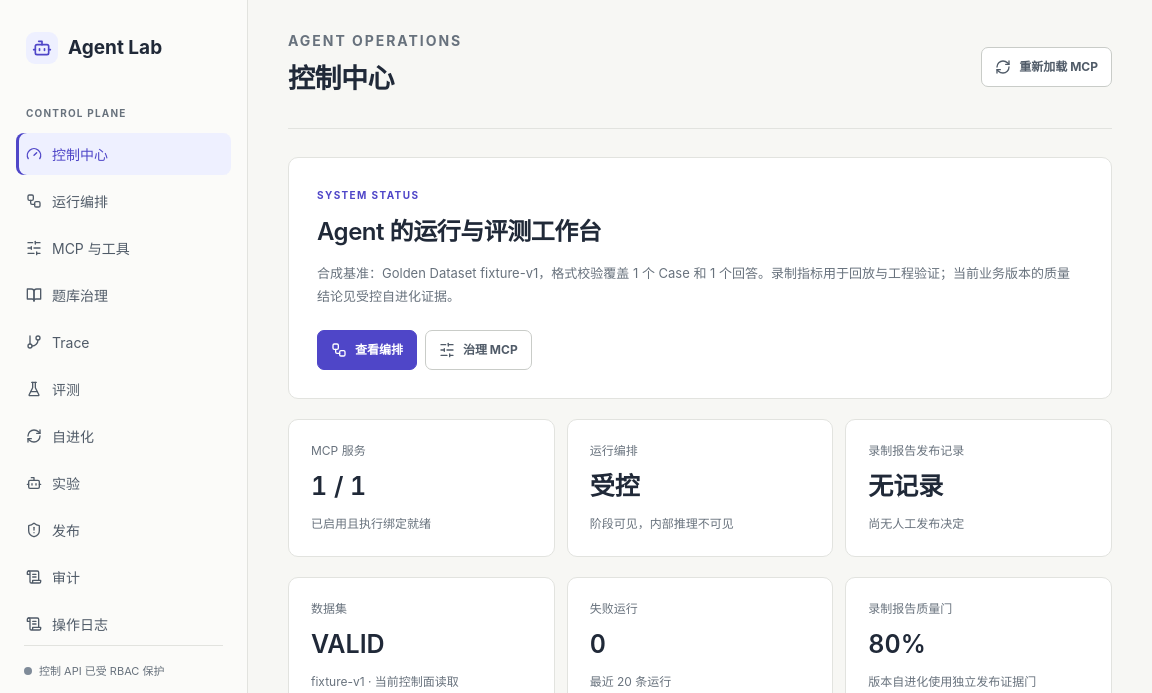
Scenario: MCP workspace process scope and state recovery › rereads actual disabled state after an unconfirmed mutation and permits an explicit GET recovery
The width and height of the screenshot is (1152, 693).
Click the button "治理 MCP": (478, 350) [425,330,532,370]
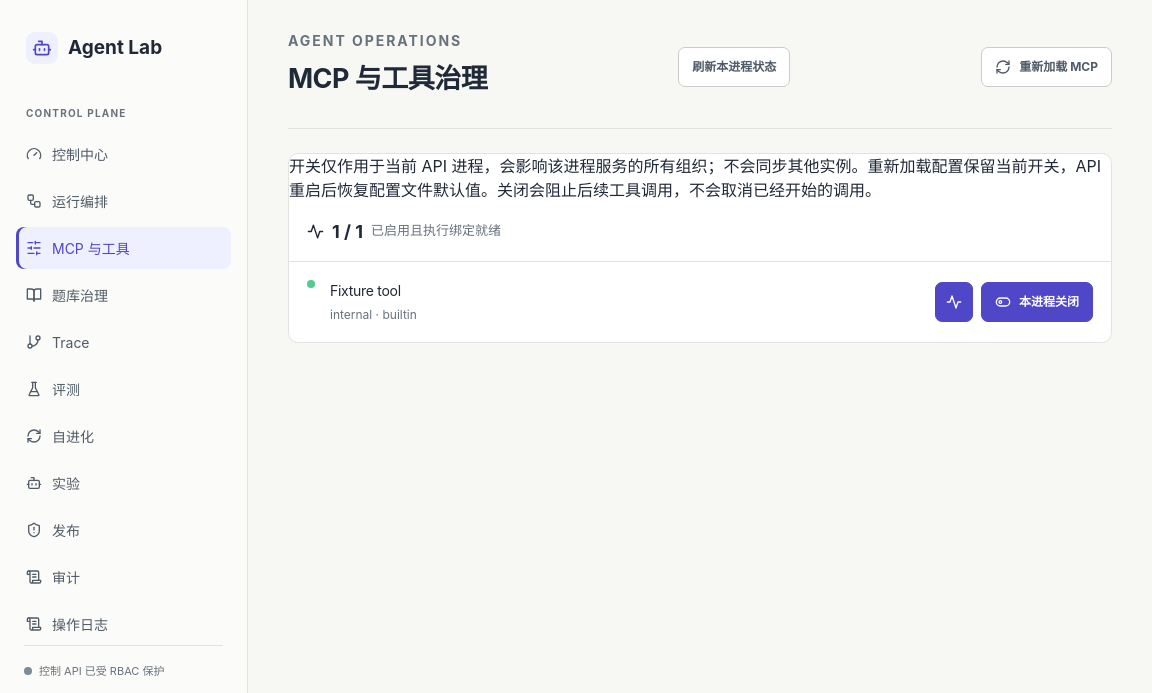
Expected: the button "本进程关闭" is shown
Click the button "本进程关闭": (1037, 302) [981,282,1093,322]
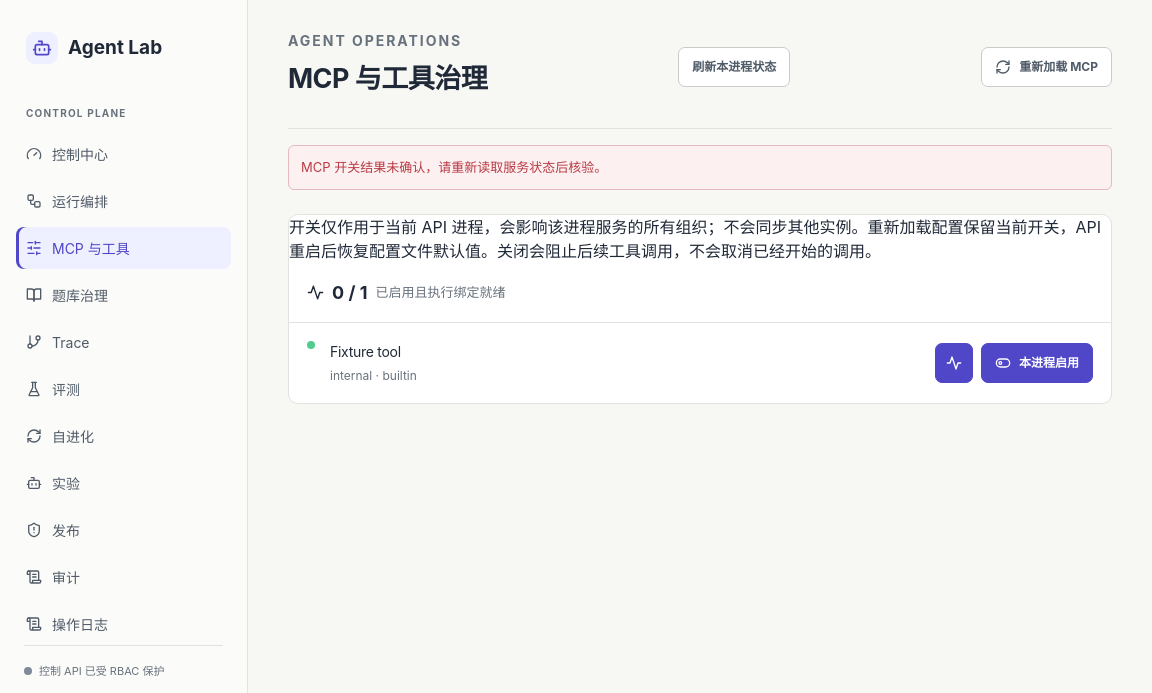
Expected: the text "MCP 开关结果未确认，请重新读取服务状态后核验。" is shown, [288,144,1112,190]
Expected: the button "本进程启用" is shown, [981,343,1093,383]
Click the button "刷新本进程状态": (734, 67) [678,47,790,87]
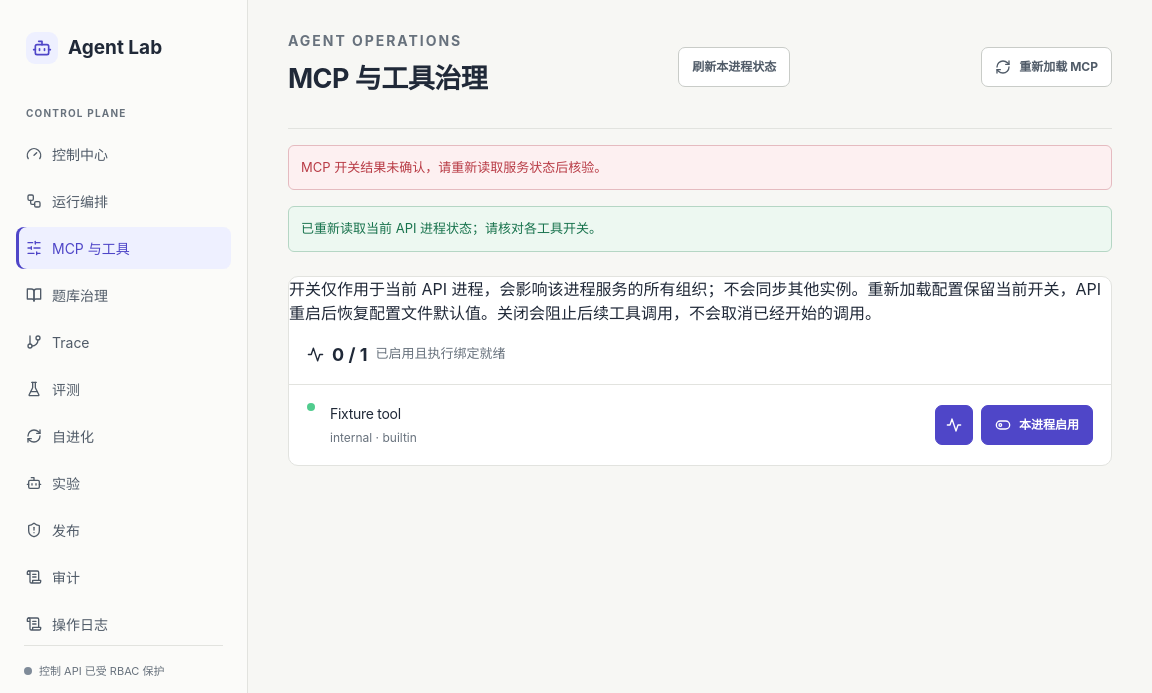
Expected: the text "已重新读取当前 API 进程状态；请核对各工具开关。" is shown, [288,206,1112,252]
